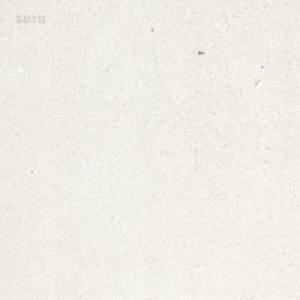Nail: (197, 50, 204, 55)
